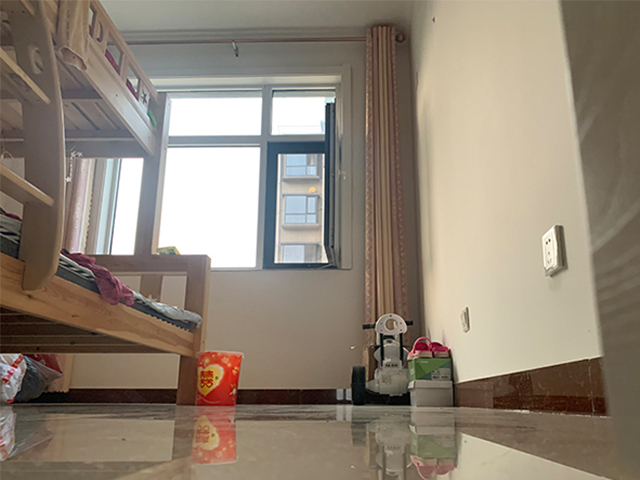bed: (1, 1, 208, 407)
curtain: (364, 26, 412, 347), (50, 157, 94, 393)
trashcan: (193, 349, 244, 407)
